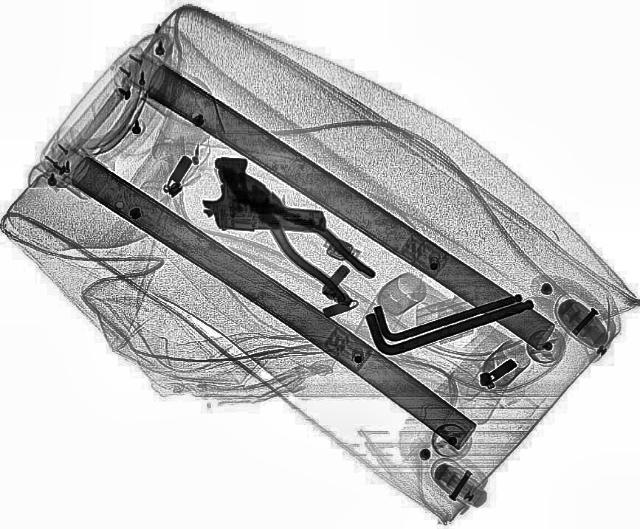Gun: (200, 157, 332, 234)
Pliers: (209, 163, 385, 305)
